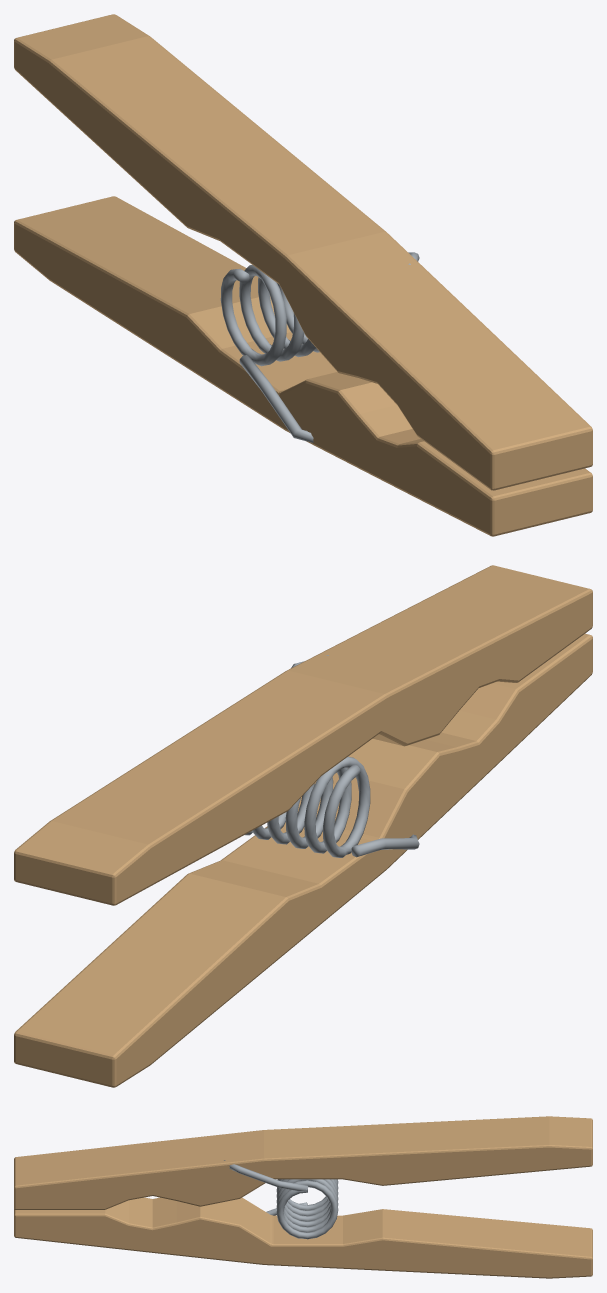
Rendered from ENA-001_LOD0.glb.
3 views of the same model, one above another, from view 1: azimuth 30°, elevation 25°; view 2: azimuth 150°, elevation 25°; view 3: azimuth 270°, elevation 25° (orthographic). The views are drawn at different scales.
Visible parts, largest first — view 1: ENA-001_LOD0; view 2: ENA-001_LOD0; view 3: ENA-001_LOD0.
Boxes of the visible parts, box(x1,y1,x2,y2) form: ENA-001_LOD0: box(14, 14, 592, 536); ENA-001_LOD0: box(14, 565, 592, 1087); ENA-001_LOD0: box(14, 1116, 592, 1278).
Size of the model in its own units: 0.0111 by 0.0186 by 0.073.
